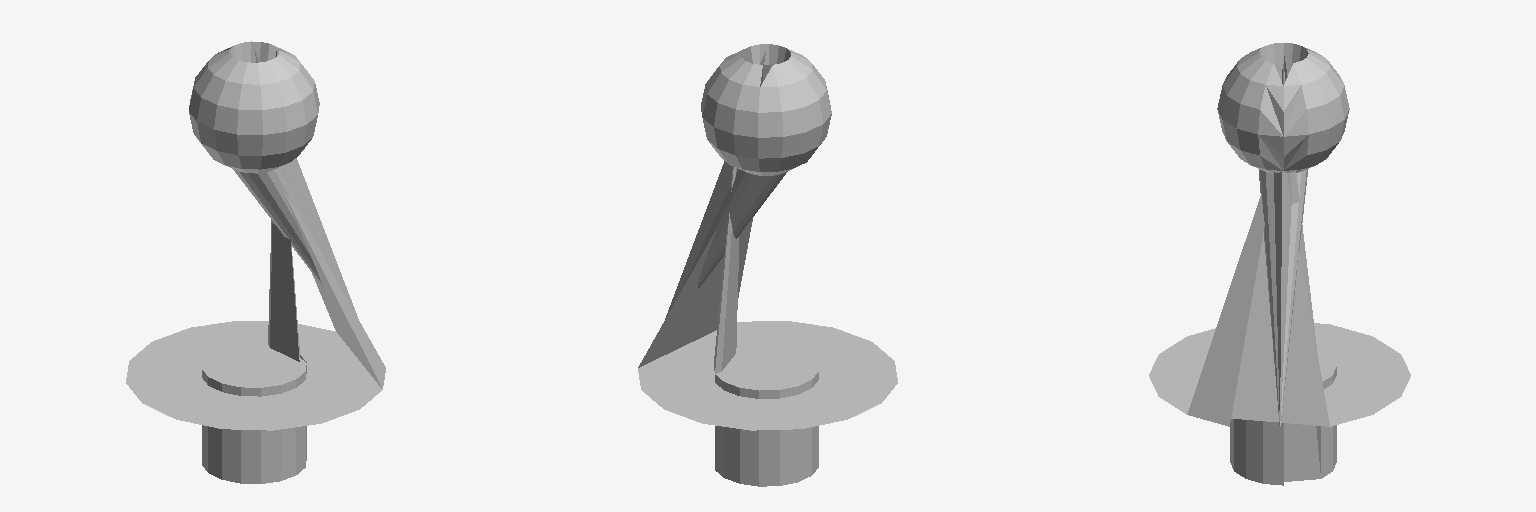
The model's file is person1.obj.
3 views of the same model, side by side, from view 1: azimuth 30°, elevation 25°; view 2: azimuth 150°, elevation 25°; view 3: azimuth 270°, elevation 25° (orthographic).
Bounding box in the file's own units: 2 × 3.48 × 2.